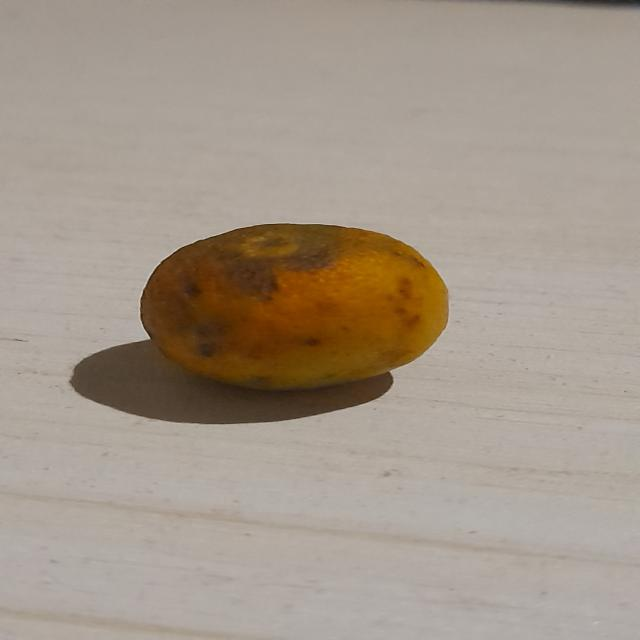black spot: (135, 219, 452, 391)
